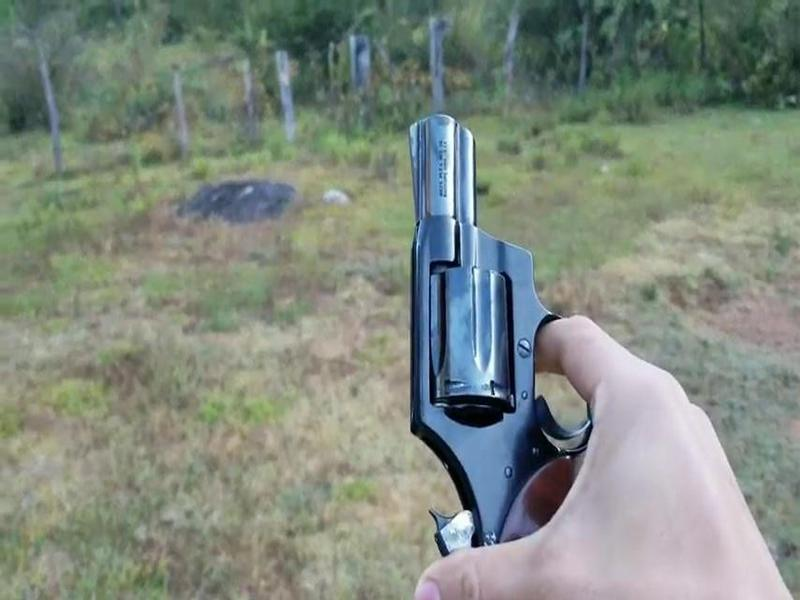Revolver: (383, 103, 610, 547)
